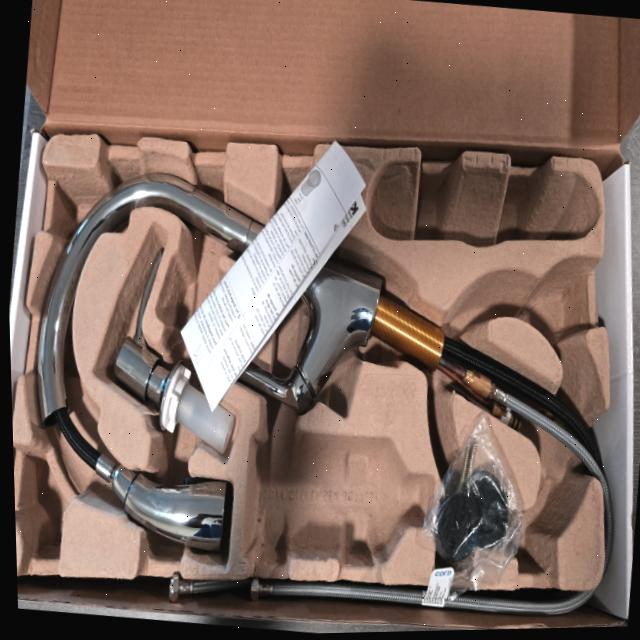1o: (36, 173, 605, 550)
2: (112, 246, 235, 454)
3m: (242, 433, 433, 561)
4m: (369, 161, 599, 244)
5m: (525, 264, 583, 337)
6m: (498, 468, 579, 574)
7: (417, 406, 523, 592)
8: (177, 138, 366, 413)
